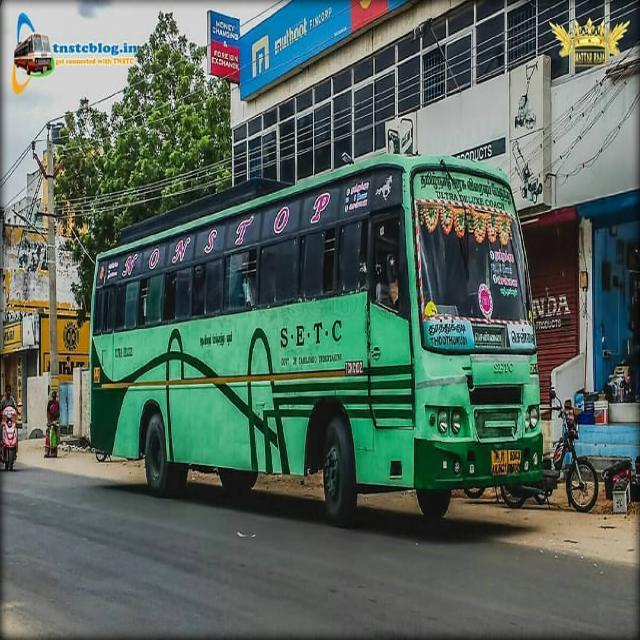Bus: (88, 145, 546, 528)
